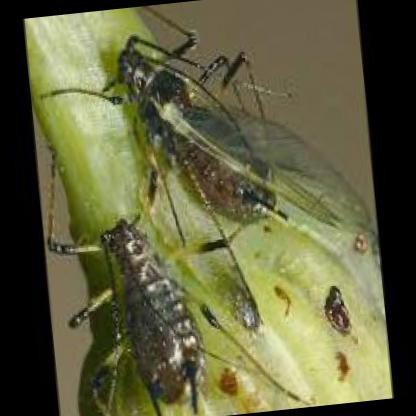uroleucon compositae: (103, 35, 368, 231), (48, 220, 210, 410)
